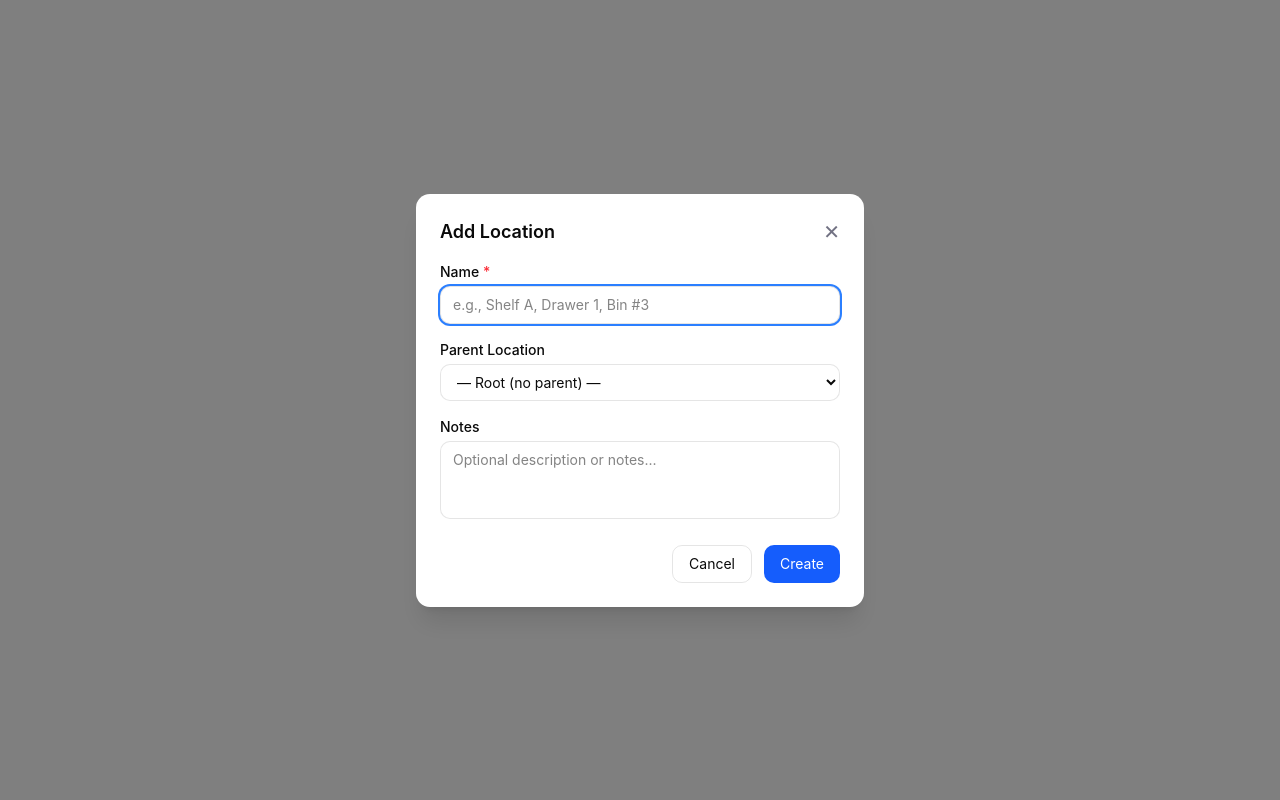
Scenario: LocationModal — interactions › shows API error message on failed submission
In the field with placeholder "e.g., Shelf A, Drawer 1, Bin #3": (640, 304) x1=440 y1=286 x2=840 y2=324, type "Shelf A"
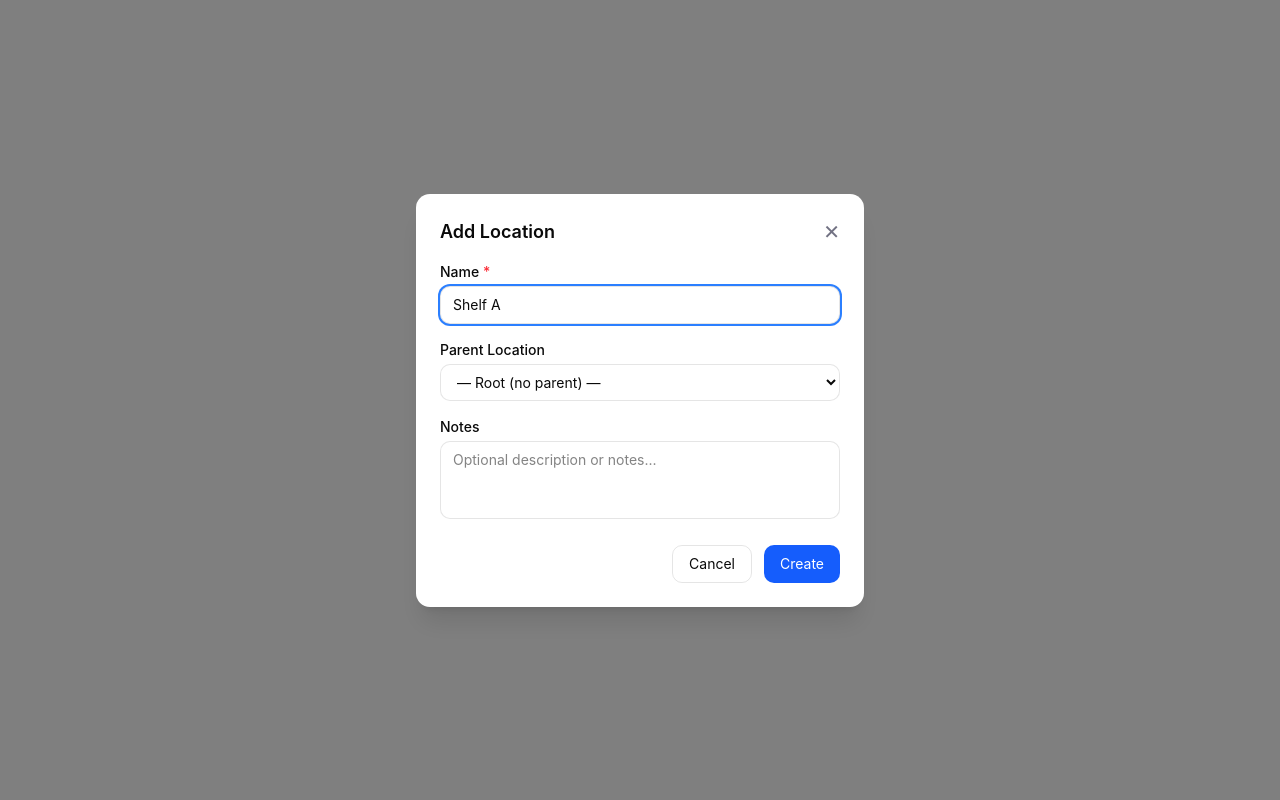
Click the button "Create": (802, 564) x1=764 y1=544 x2=840 y2=582
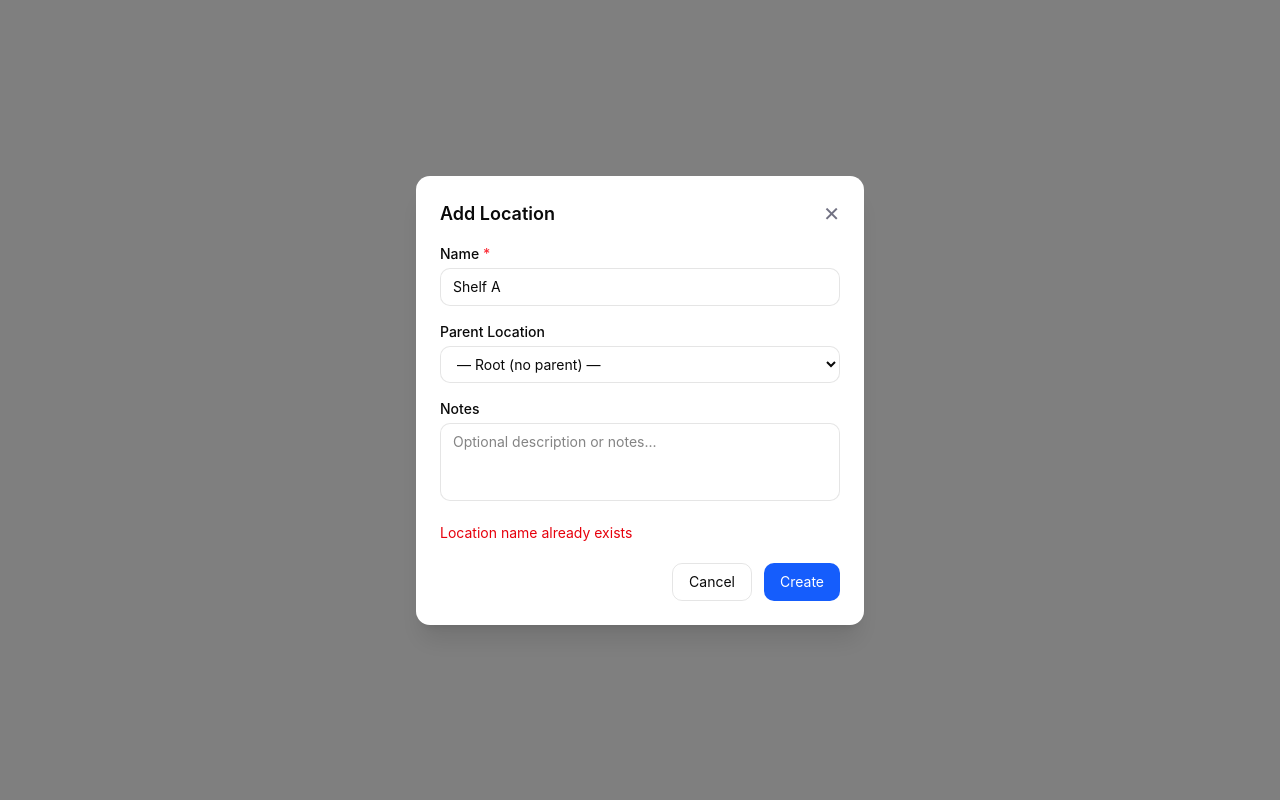
Expected: the text "Location name already exists" is shown, x1=440 y1=524 x2=632 y2=540
